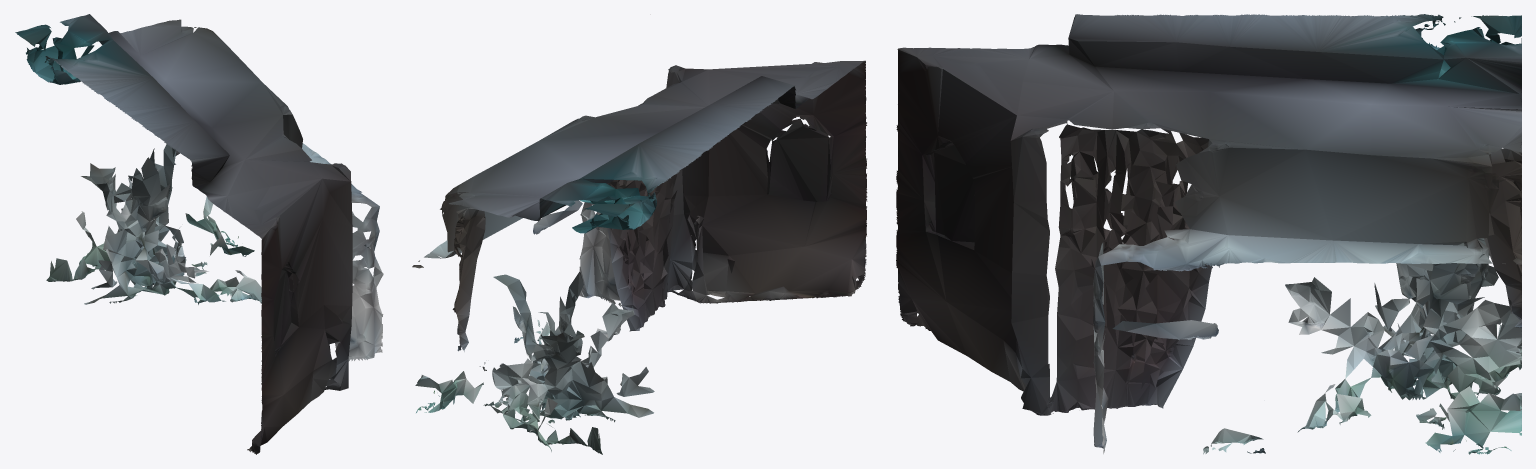
The model's file is coarse.glb.
3 views of the same model, side by side, from view 1: azimuth 30°, elevation 25°; view 2: azimuth 150°, elevation 25°; view 3: azimuth 270°, elevation 25° (orthographic). The views are drawn at different scales.
Bounding box in the file's own units: 1.52 × 2.07 × 3.21.
